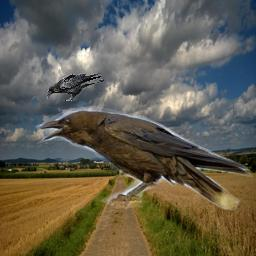Crow: (35, 105, 253, 210), (46, 73, 104, 101)
